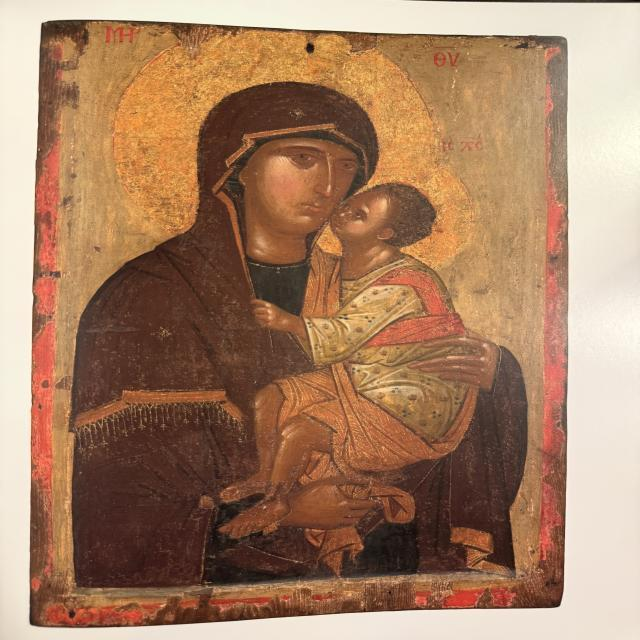aura: (99, 31, 443, 241), (315, 164, 474, 271)
christ_child: (202, 177, 486, 529)
mary_and_child: (76, 81, 526, 579)
